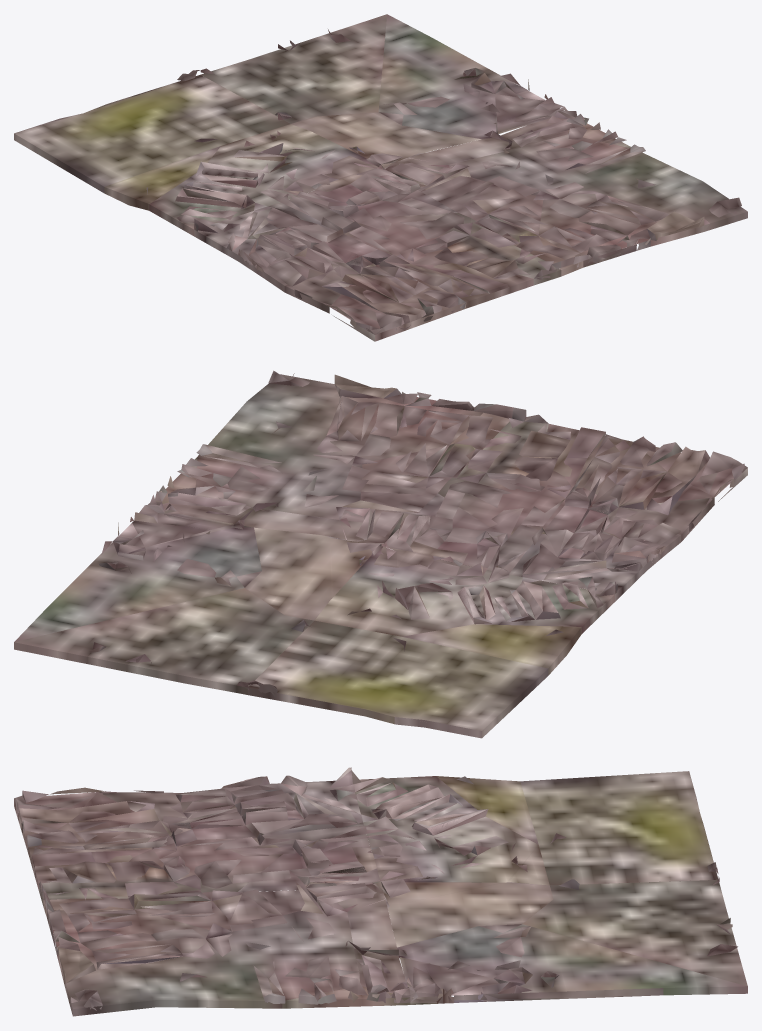
The picture shows the model from 3 angles, top to bottom: view 1: azimuth 30°, elevation 25°; view 2: azimuth 150°, elevation 25°; view 3: azimuth 270°, elevation 25°; orthographic projection. The views are drawn at different scales.
Visible parts, largest first — view 1: Mesh_0; view 2: Mesh_0; view 3: Mesh_0.
Part boxes in pixels (x1,y1,x2,y2): Mesh_0: [14, 14, 747, 341]; Mesh_0: [14, 370, 747, 738]; Mesh_0: [14, 767, 747, 1016].
Size of the model in its own units: 1065 by 69.03 by 1318.
1 material, 1 textured.
